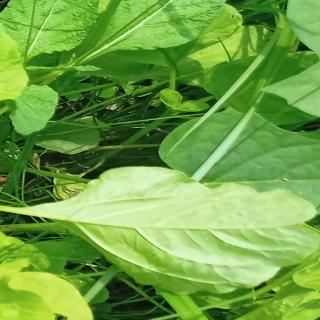virus_keriting: (0, 0, 32, 128)
